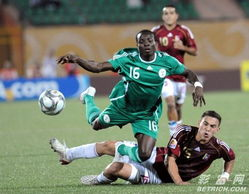fall: (50, 34, 204, 178)
